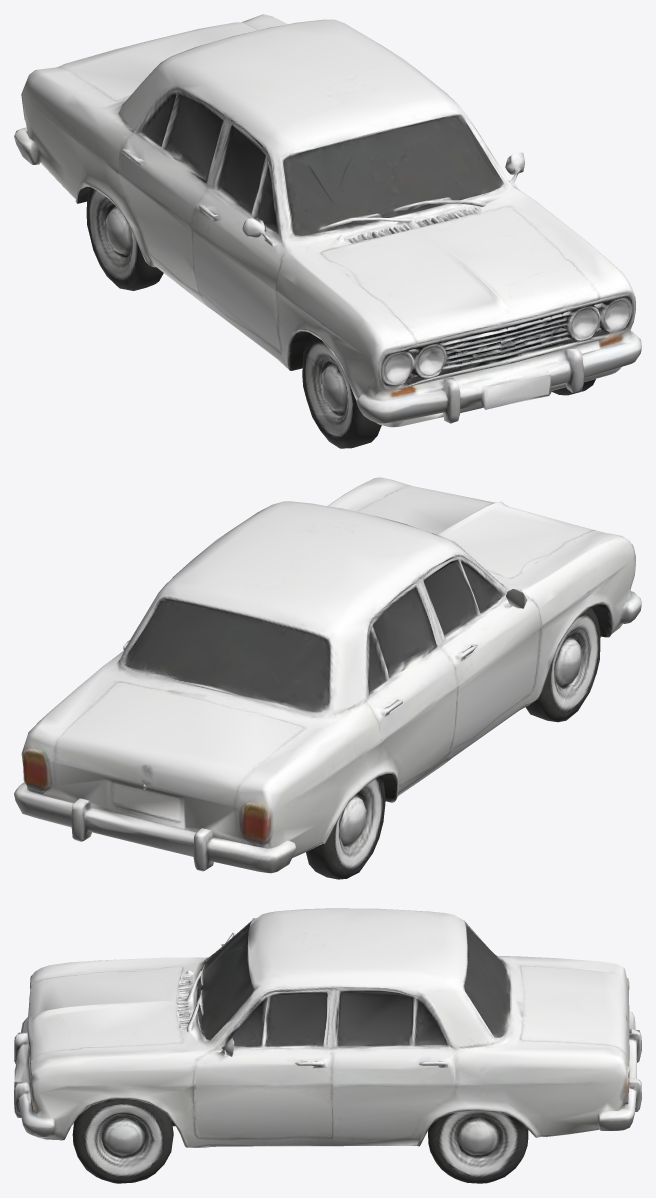
File: sedan.glb
The picture shows the model from 3 angles, top to bottom: view 1: azimuth 30°, elevation 25°; view 2: azimuth 150°, elevation 25°; view 3: azimuth 270°, elevation 25°; orthographic projection. The views are drawn at different scales.
Parts seen in each view (by area): view 1: sedan-node; view 2: sedan-node; view 3: sedan-node.
Boxes of the visible parts, x1=… form: sedan-node: x1=14, y1=14, x2=641, y2=448; sedan-node: x1=14, y1=477, x2=641, y2=879; sedan-node: x1=14, y1=908, x2=641, y2=1183.
Size of the model in its own units: 1.22 by 1 by 2.84.
Materials: 1 (1 with a texture image).
